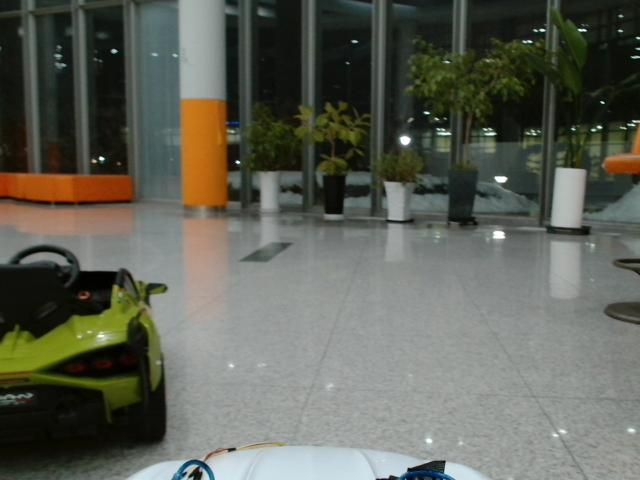car: (1, 245, 167, 466)
